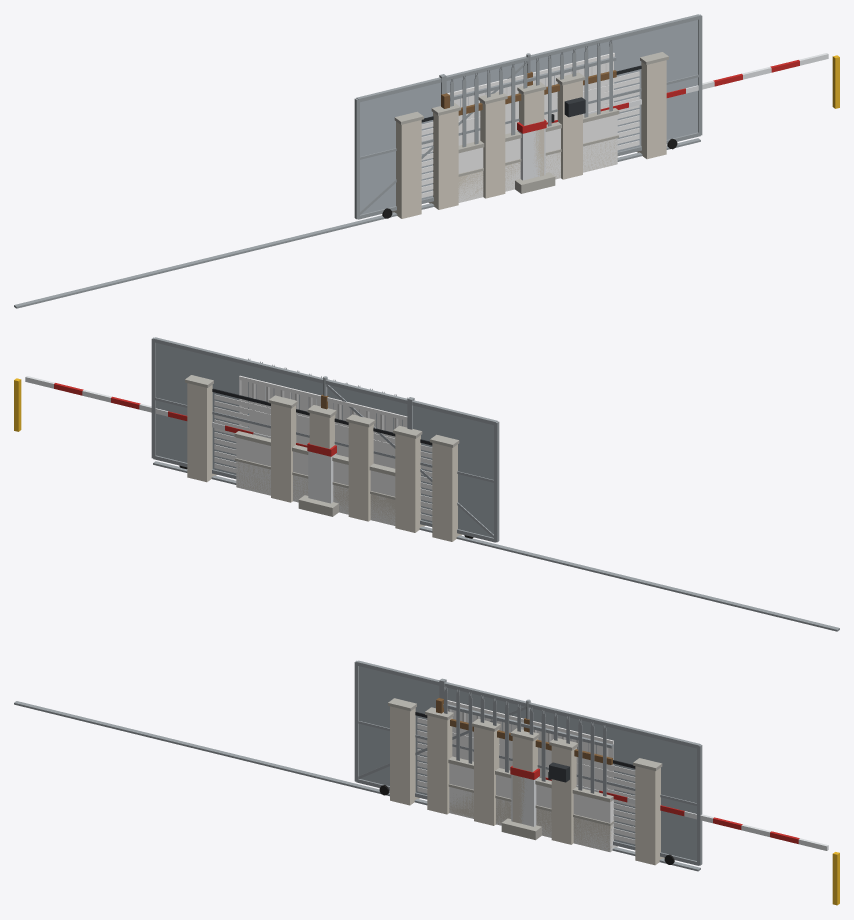
Rendered from fences.glb.
3 views of the same model, one above another, from view 1: azimuth 30°, elevation 25°; view 2: azimuth 150°, elevation 25°; view 3: azimuth 330°, elevation 25° (orthographic).
Visible parts, largest first — view 1: SlidingGate, DrivewayGate, SlatFence, PedGate, LowWall, Palisade, BoomGate, FencePier, Paling, Colorbond; view 2: SlidingGate, DrivewayGate, SlatFence, PedGate, LowWall, BoomGate, ChainLink, Paling, Colorbond, FencePier; view 3: SlidingGate, DrivewayGate, PedGate, SlatFence, LowWall, Palisade, BoomGate, ChainLink, FencePier, Paling, Colorbond.
Boxes of the visible parts, x1=… form: SlidingGate: x1=14, y1=14, x2=702, y2=308; DrivewayGate: x1=392, y1=52, x2=668, y2=218; SlatFence: x1=429, y1=82, x2=618, y2=209; PedGate: x1=478, y1=72, x2=585, y2=198; LowWall: x1=458, y1=108, x2=619, y2=202; Palisade: x1=439, y1=40, x2=616, y2=147; BoomGate: x1=515, y1=53, x2=839, y2=193; FencePier: x1=517, y1=82, x2=546, y2=176; Paling: x1=441, y1=61, x2=616, y2=115; Colorbond: x1=447, y1=53, x2=614, y2=116; SlidingGate: x1=151, y1=337, x2=839, y2=631; DrivewayGate: x1=185, y1=375, x2=461, y2=541; SlatFence: x1=235, y1=401, x2=424, y2=532; PedGate: x1=268, y1=395, x2=375, y2=521; LowWall: x1=234, y1=431, x2=395, y2=525; BoomGate: x1=14, y1=376, x2=338, y2=516; ChainLink: x1=239, y1=363, x2=407, y2=433; Paling: x1=241, y1=380, x2=407, y2=438; Colorbond: x1=239, y1=376, x2=407, y2=441; FencePier: x1=307, y1=405, x2=336, y2=448; SlidingGate: x1=14, y1=660, x2=702, y2=871; DrivewayGate: x1=388, y1=698, x2=664, y2=865; PedGate: x1=471, y1=719, x2=578, y2=844; SlatFence: x1=425, y1=707, x2=617, y2=851; LowWall: x1=448, y1=756, x2=617, y2=852; Palisade: x1=439, y1=678, x2=613, y2=830; BoomGate: x1=501, y1=766, x2=839, y2=905; ChainLink: x1=445, y1=687, x2=613, y2=790; FencePier: x1=510, y1=728, x2=539, y2=823; Paling: x1=436, y1=698, x2=613, y2=790; Colorbond: x1=447, y1=700, x2=613, y2=789.
Bounding box in the file's own units: 14.44 × 2.16 × 0.6.
